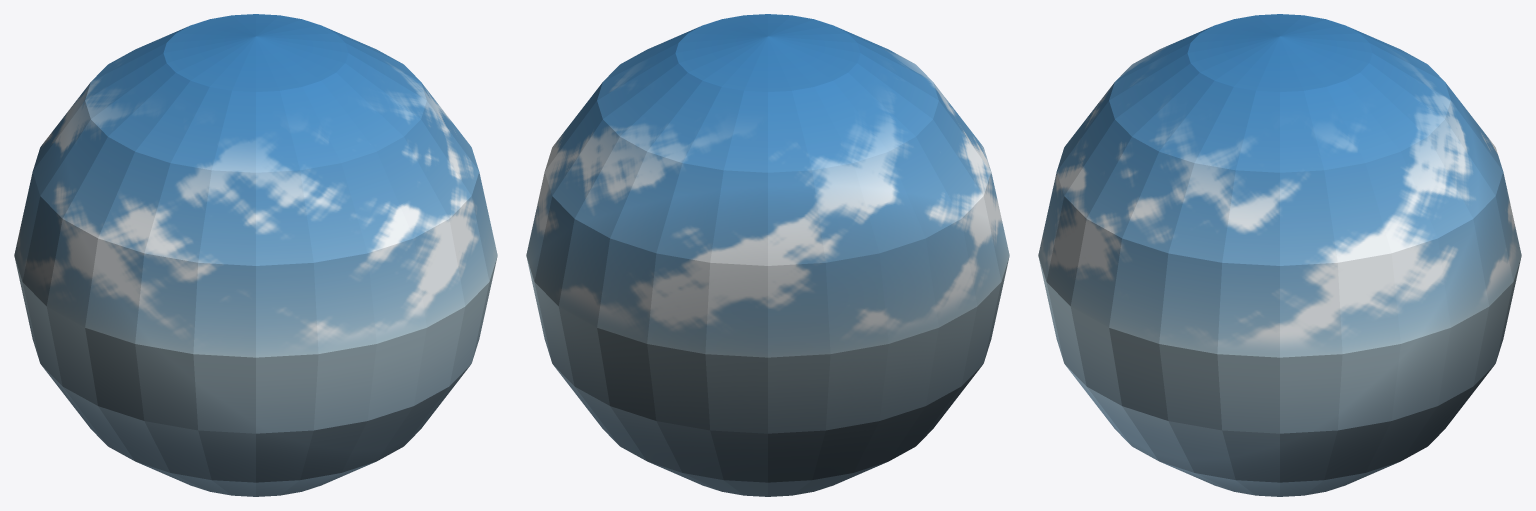
File: skybox.obj
3 views of the same model, side by side, from view 1: azimuth 30°, elevation 25°; view 2: azimuth 150°, elevation 25°; view 3: azimuth 270°, elevation 25° (orthographic).
Visible parts, largest first — view 1: skybox; view 2: skybox; view 3: skybox.
Part boxes in pixels (x1=…): skybox: x1=14, y1=14, x2=497, y2=496; skybox: x1=526, y1=14, x2=1009, y2=496; skybox: x1=1038, y1=14, x2=1521, y2=496.
Bounding box in the file's own units: 2 × 2 × 2.
Materials: 1 (1 with a texture image).
